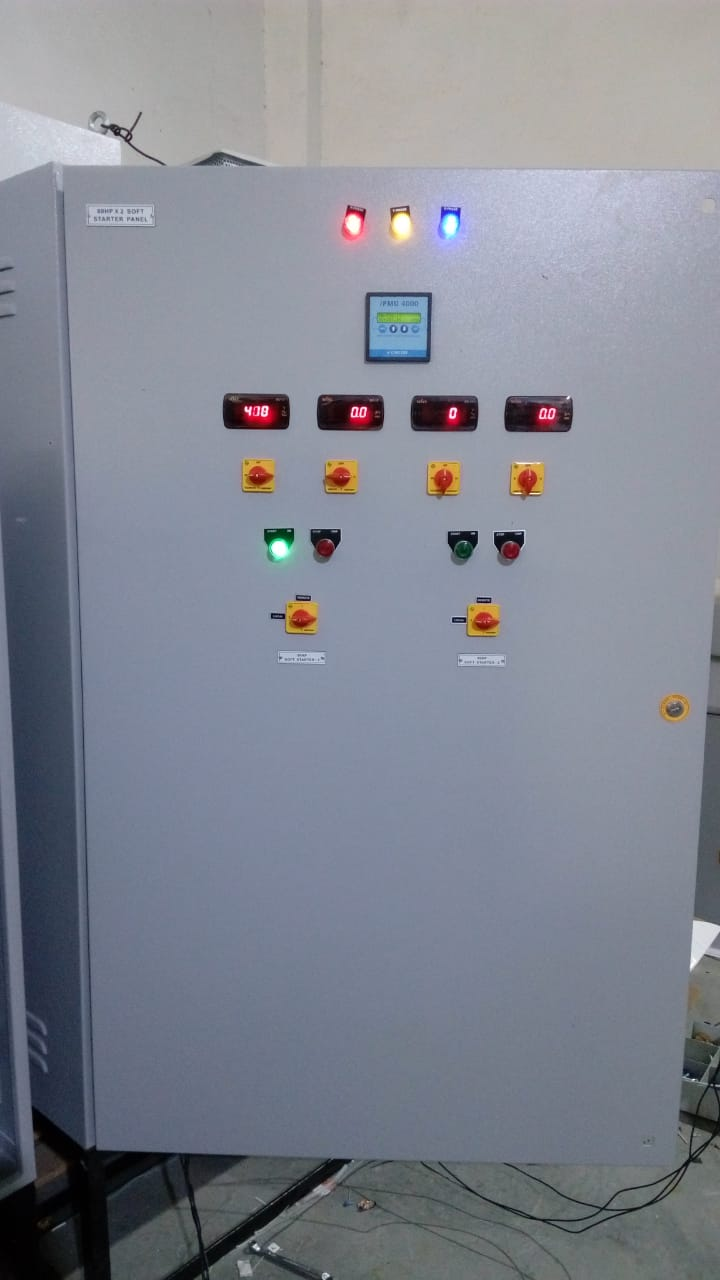Blue_Led_On: (433, 203, 468, 246)
Green_Led_Off: (440, 530, 486, 568)
Green_Led_On: (257, 523, 302, 568)
Red_Led_Off: (310, 527, 349, 573), (493, 528, 529, 575), (336, 206, 370, 243), (386, 202, 414, 237)
